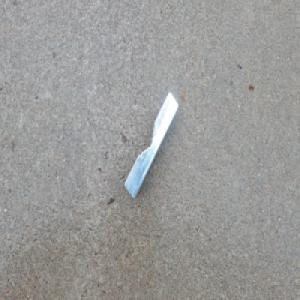ClampPart: (122, 92, 177, 201)
